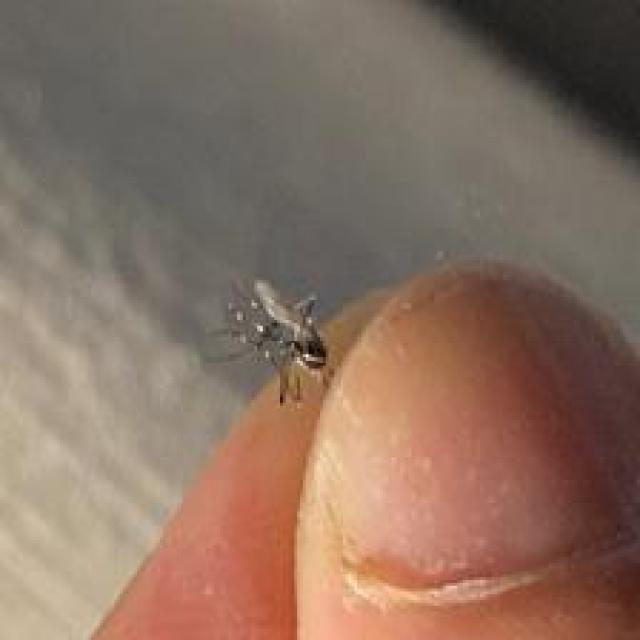Aedes albopictus: (200, 274, 334, 406)
